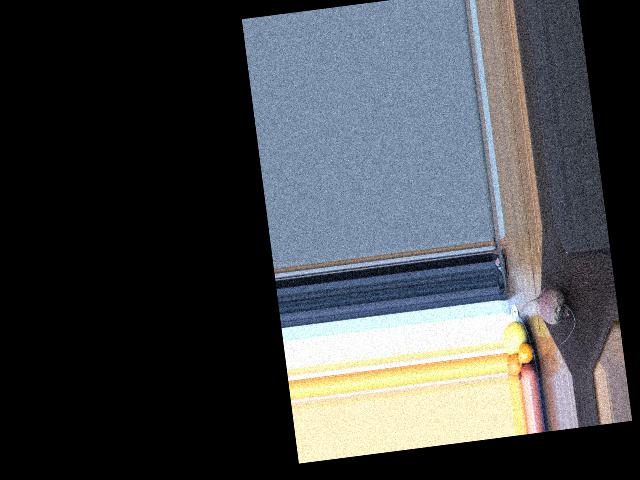beet: (519, 283, 578, 348)
